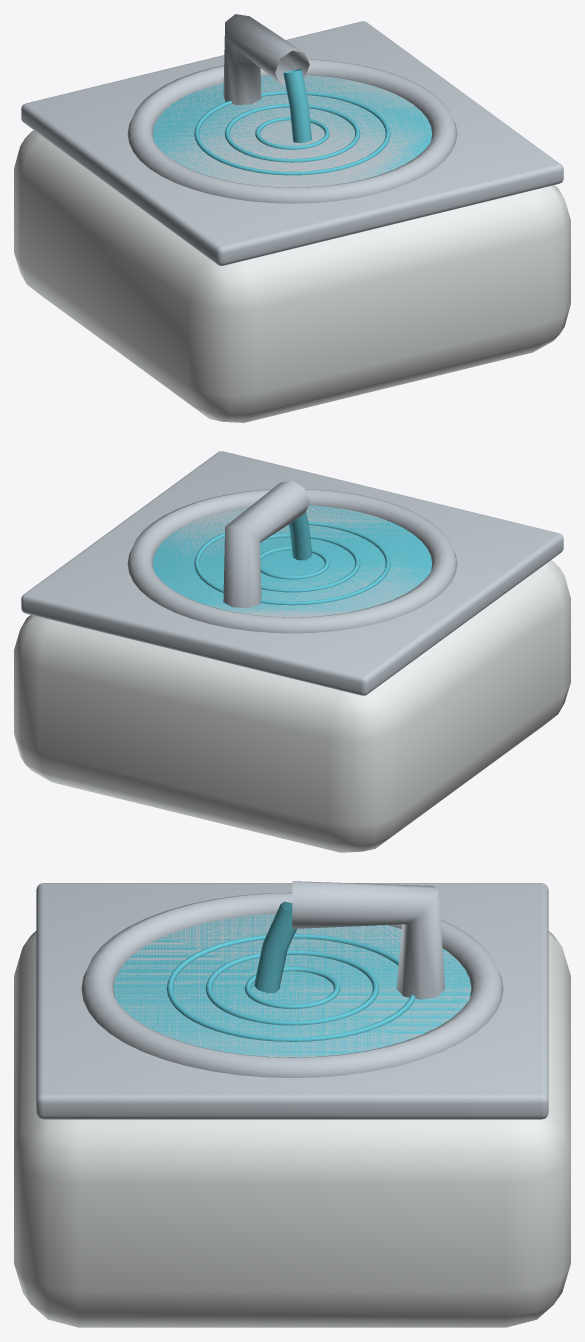
Rendered from pet-water-fountain.glb.
The picture shows the model from 3 angles, top to bottom: view 1: azimuth 30°, elevation 25°; view 2: azimuth 150°, elevation 25°; view 3: azimuth 270°, elevation 25°; orthographic projection. The views are drawn at different scales.
Visible parts, largest first — view 1: pet-water-fountain, animated_water_ripple.002, continuous_water_stream, animated_water_ripple.001, animated_water_ripple; view 2: pet-water-fountain, animated_water_ripple.002, animated_water_ripple.001, continuous_water_stream, animated_water_ripple; view 3: pet-water-fountain, animated_water_ripple.002, continuous_water_stream, animated_water_ripple.001, animated_water_ripple.
Boxes of the visible parts, box(x1,y1,x2,y2) form: pet-water-fountain: box(14, 14, 570, 422); animated_water_ripple.002: box(194, 91, 390, 175); continuous_water_stream: box(283, 69, 311, 142); animated_water_ripple.001: box(224, 104, 360, 162); animated_water_ripple: box(255, 116, 329, 149); pet-water-fountain: box(14, 451, 570, 852); animated_water_ripple.002: box(194, 521, 390, 605); animated_water_ripple.001: box(261, 533, 360, 592); continuous_water_stream: box(288, 512, 311, 560); animated_water_ripple: box(260, 546, 329, 579); pet-water-fountain: box(14, 881, 570, 1327); animated_water_ripple.002: box(166, 934, 415, 1041); continuous_water_stream: box(254, 901, 296, 992); animated_water_ripple.001: box(205, 950, 379, 1025); animated_water_ripple: box(244, 966, 340, 1008).
Bounding box in the file's own units: 0.26 × 0.18 × 0.26.
